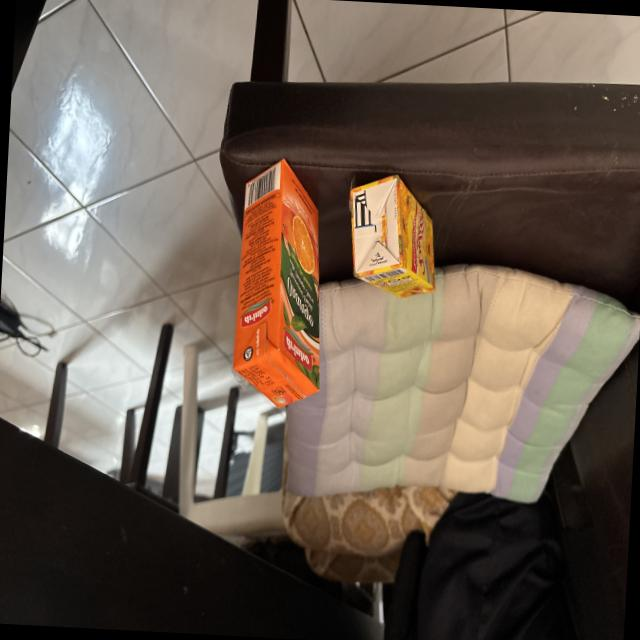drink_carton: (225, 150, 332, 424), (338, 166, 448, 310)
